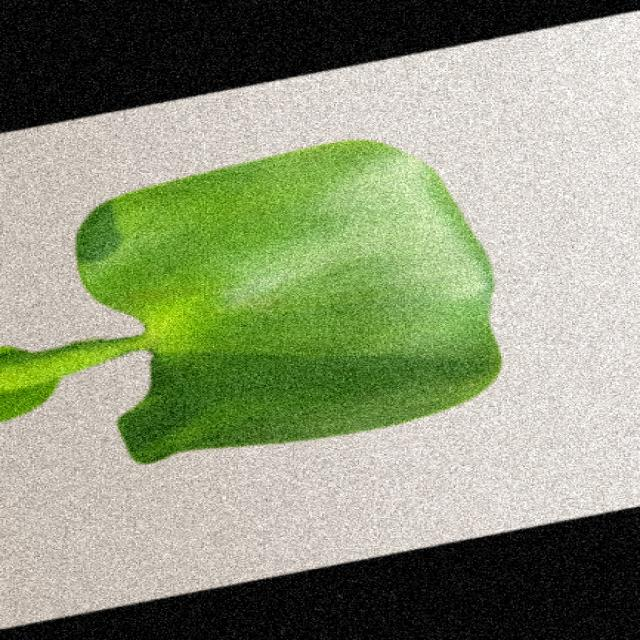daun sehat: (0, 140, 501, 462)
